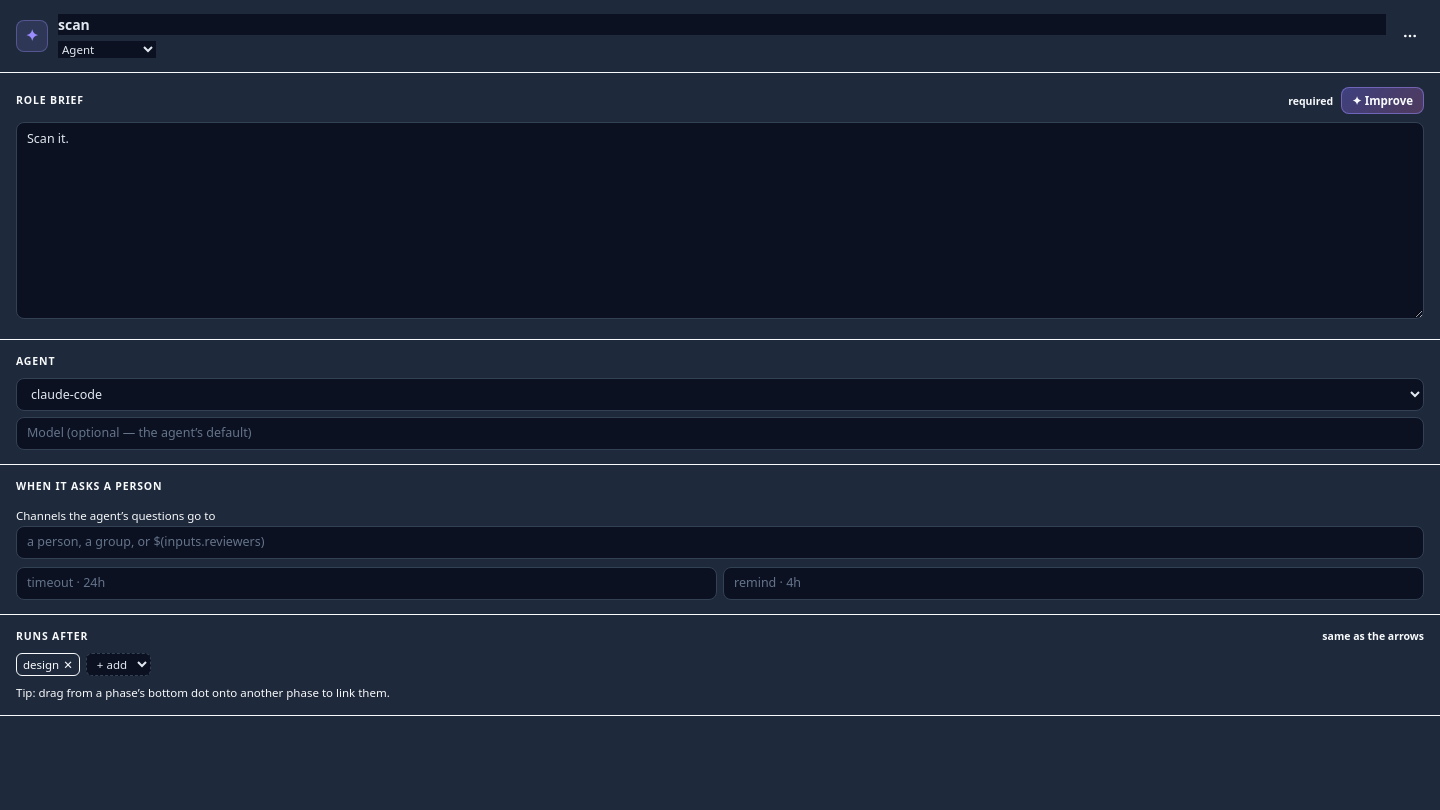
Phase_panel › changing kind keeps wiring (agent → human review)
Select "Human review" in the dropdown named "Kind" at (107, 50), box [58,41,156,58]
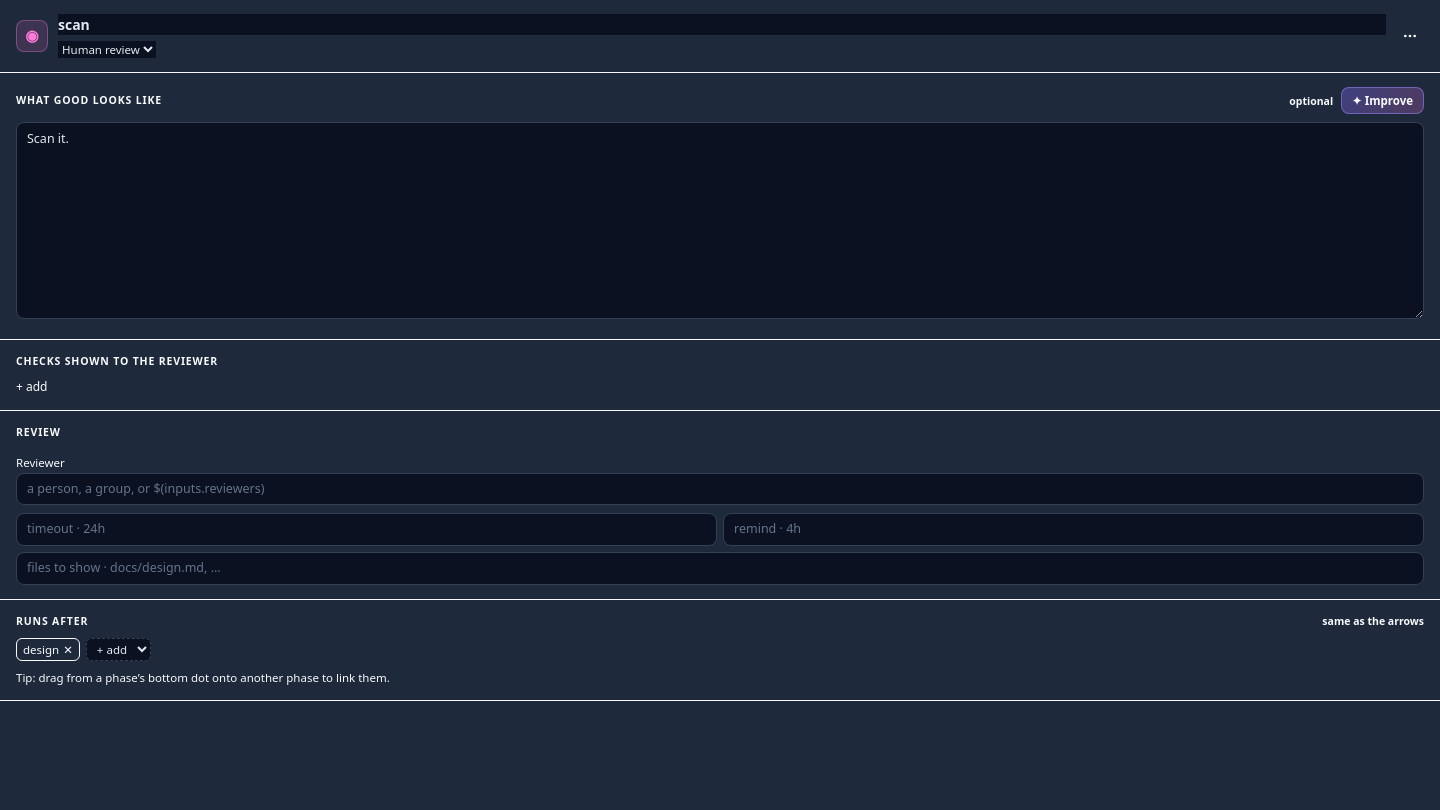
Expected: the field labelled "reviewer" is shown, [16,473,1424,505]
